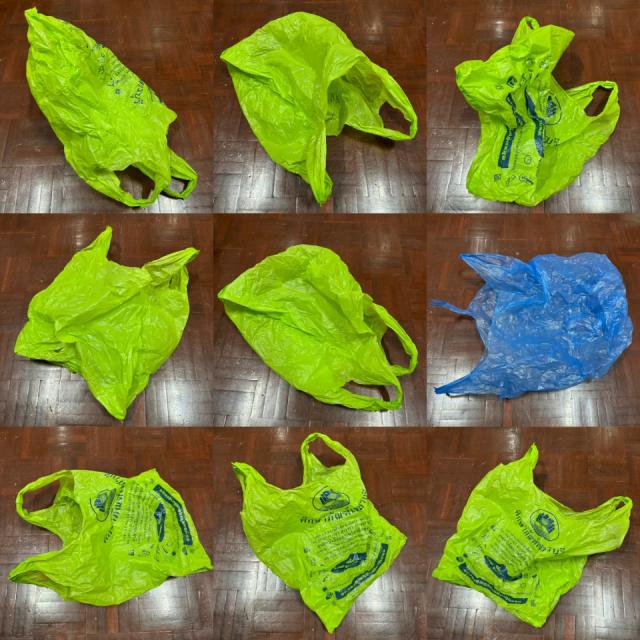Single-layer Plastic: (221, 12, 418, 203), (432, 445, 632, 628), (15, 226, 199, 419), (232, 432, 406, 631), (25, 8, 198, 207), (219, 245, 418, 411), (455, 16, 620, 206), (430, 252, 632, 399), (10, 469, 212, 606)
